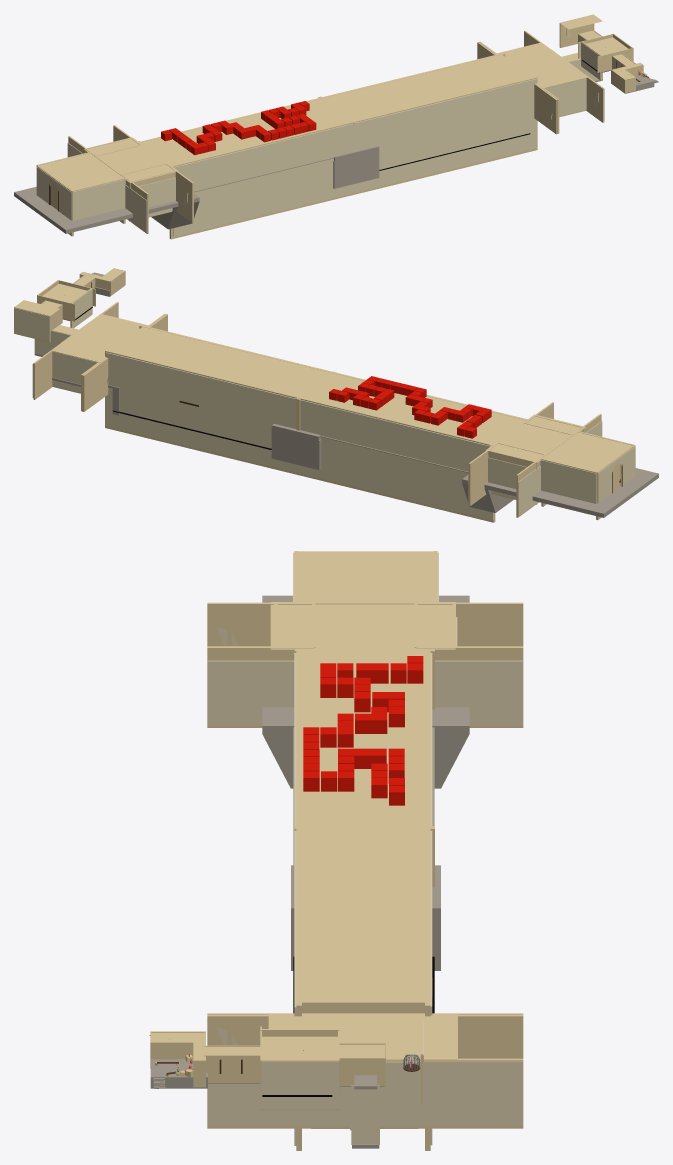
File: M4BO_map_blockout_Kleur_19mei 1 (1).fbx
3 views of the same model, one above another, from view 1: azimuth 30°, elevation 25°; view 2: azimuth 150°, elevation 25°; view 3: azimuth 270°, elevation 25° (orthographic). The views are drawn at different scales.
Visible parts, largest first — view 1: Cube.185, Cube.112, Cube.113, Cube.100, Cube.189, Cube.090, Cube.111, Cube.177, Cube.182, Cube.153, Cube.190, Cube.157 (+10 smaller); view 2: Cube.184, Cube.112, Cube.113, Cube.100, Cube.090, Cube.188, Cube.111, Cube.176, Cube.181, Cube.153, Cube.066, Cube.158 (+10 smaller); view 3: Cube.112, Cube.113, Cube.180, Cube.194, Cube.187, Cube.111, Cube.100, Cube.069, Cube.048, Cube.175, Cube.162, Cube.070 (+11 smaller).
Part boxes in pixels (<box>): Cube.185: <box>173,78,537,236</box>; Cube.112: <box>38,42,588,190</box>; Cube.113: <box>161,101,316,155</box>; Cube.100: <box>14,186,199,233</box>; Cube.189: <box>72,179,125,220</box>; Cube.090: <box>333,146,379,188</box>; Cube.111: <box>560,15,641,79</box>; Cube.177: <box>545,78,586,115</box>; Cube.182: <box>534,84,557,134</box>; Cube.153: <box>36,167,71,234</box>; Cube.190: <box>139,177,175,216</box>; Cube.157: <box>166,163,193,222</box>; Cube.184: <box>105,352,493,520</box>; Cube.112: <box>51,314,632,471</box>; Cube.113: <box>329,376,491,438</box>; Cube.100: <box>462,468,658,517</box>; Cube.090: <box>271,423,321,469</box>; Cube.188: <box>540,460,596,503</box>; Cube.111: <box>15,268,123,315</box>; Cube.176: <box>52,351,97,392</box>; Cube.181: <box>82,358,108,411</box>; Cube.153: <box>598,446,635,517</box>; Cube.066: <box>14,308,49,341</box>; Cube.158: <box>468,442,498,505</box>; Cube.112: <box>268,552,457,1059</box>; Cube.113: <box>303,656,423,805</box>; Cube.180: <box>418,1061,522,1126</box>; Cube.194: <box>207,660,294,725</box>; Cube.187: <box>435,660,522,725</box>; Cube.111: <box>152,1021,420,1059</box>; Cube.100: <box>262,595,469,788</box>; Cube.069: <box>261,1061,338,1108</box>; Cube.048: <box>311,1061,417,1126</box>; Cube.175: <box>207,1084,311,1126</box>; Cube.162: <box>416,602,523,646</box>; Cube.070: <box>458,1015,523,1058</box>.
Bounding box in the file's own units: 76339 × 11652 × 21677.
